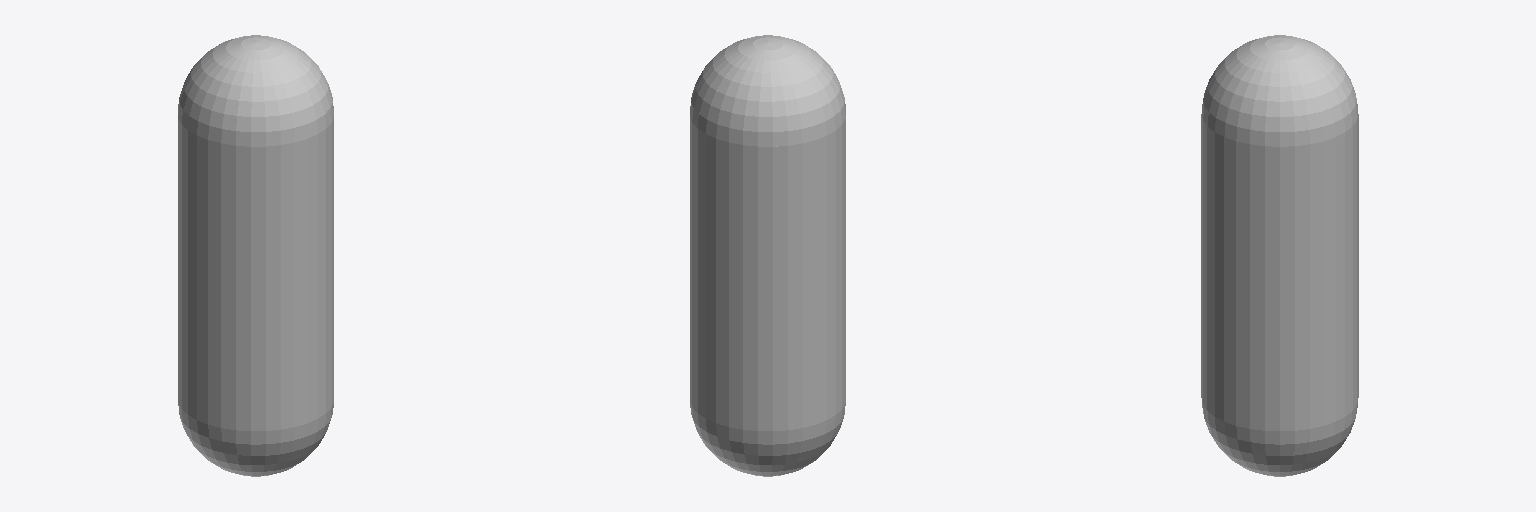
The model's file is rope_segment.obj.
The picture shows the model from 3 angles: view 1: azimuth 30°, elevation 25°; view 2: azimuth 150°, elevation 25°; view 3: azimuth 270°, elevation 25°; orthographic projection.
Parts seen in each view (by area): view 1: Sphere; view 2: Sphere; view 3: Sphere.
Boxes of the visible parts, x1,y1,x2,y2 form: Sphere: [178, 35, 333, 476]; Sphere: [690, 35, 845, 476]; Sphere: [1201, 35, 1358, 476].
Size of the model in its own units: 4 by 12 by 4.